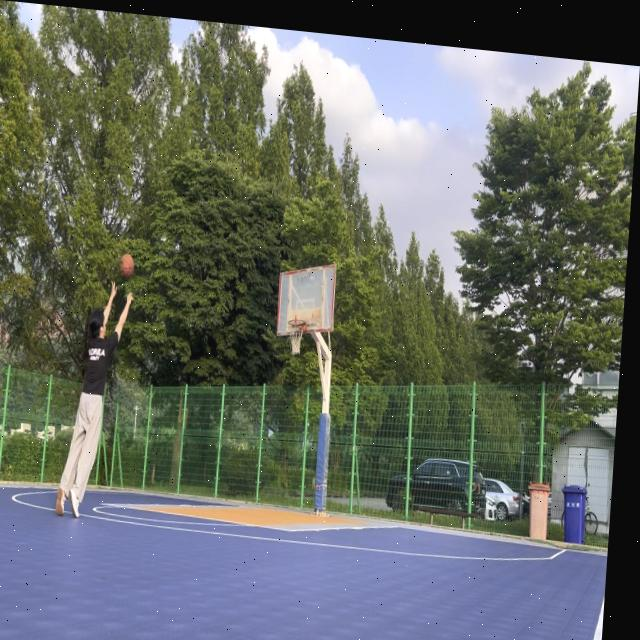basketball: (118, 253, 135, 280)
hoop: (285, 318, 306, 356)
